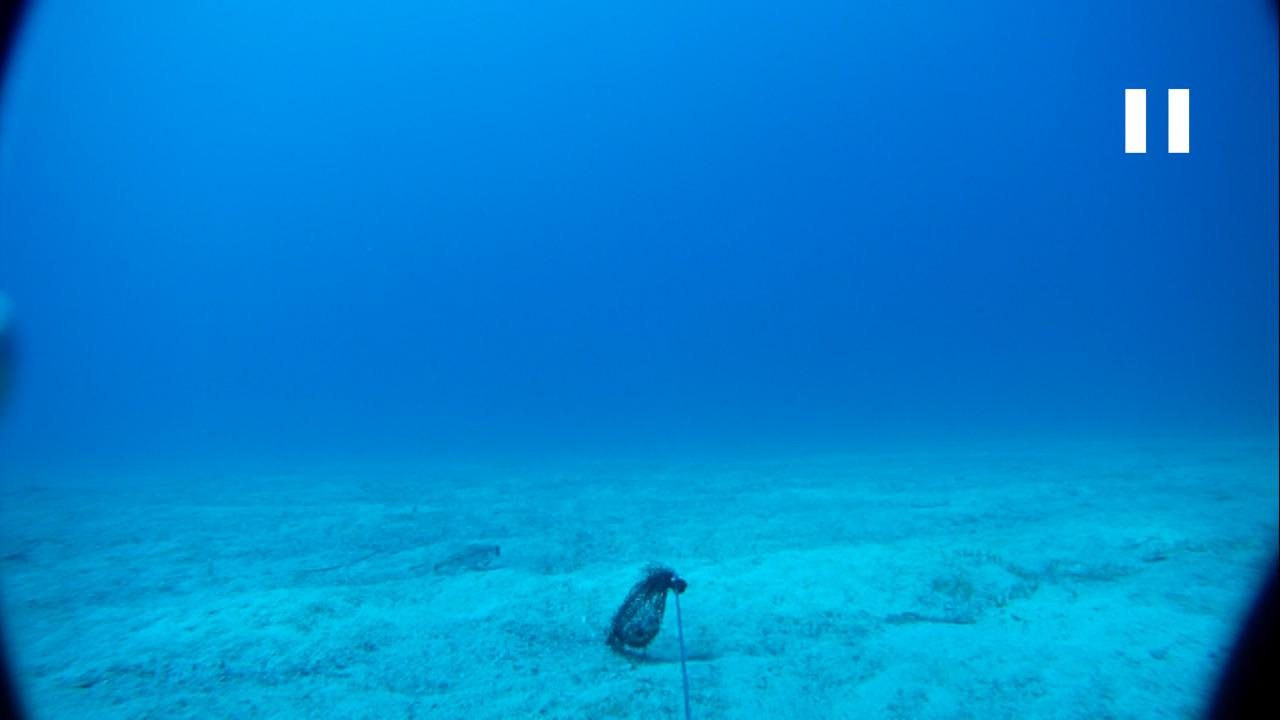dactylopterus: (411, 534, 504, 577)
